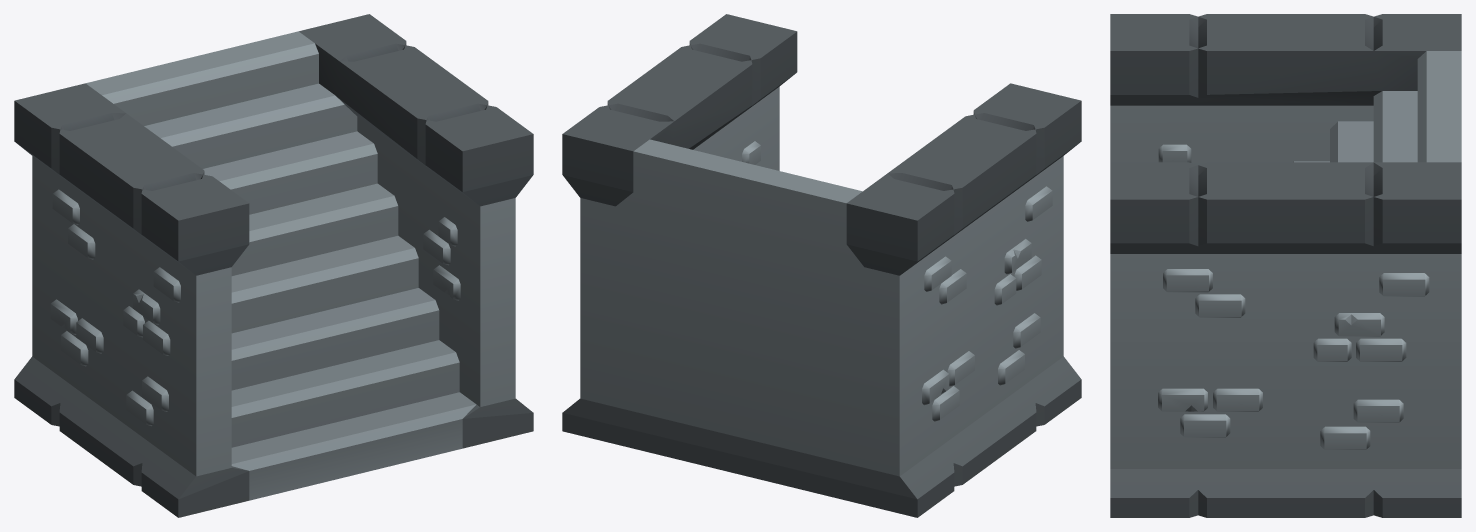
File: stairs_walled.gltf
The picture shows the model from 3 angles, left to right: view 1: azimuth 30°, elevation 25°; view 2: azimuth 150°, elevation 25°; view 3: azimuth 270°, elevation 25°; orthographic projection. The views are drawn at different scales.
Visible parts, largest first — view 1: stairs_walled; view 2: stairs_walled; view 3: stairs_walled.
Part boxes in pixels (left/top/right/bottom): stairs_walled: left=14, top=14, right=533, bottom=517; stairs_walled: left=562, top=14, right=1081, bottom=517; stairs_walled: left=1110, top=14, right=1461, bottom=517.
Bounding box in the file's own units: 5 × 4 × 4.
Materials: 1 (1 with a texture image).
